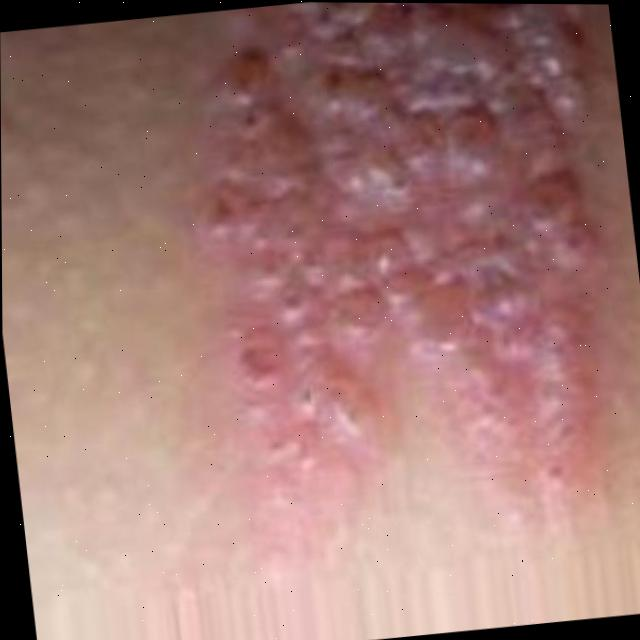Shingles: (188, 1, 636, 553)
